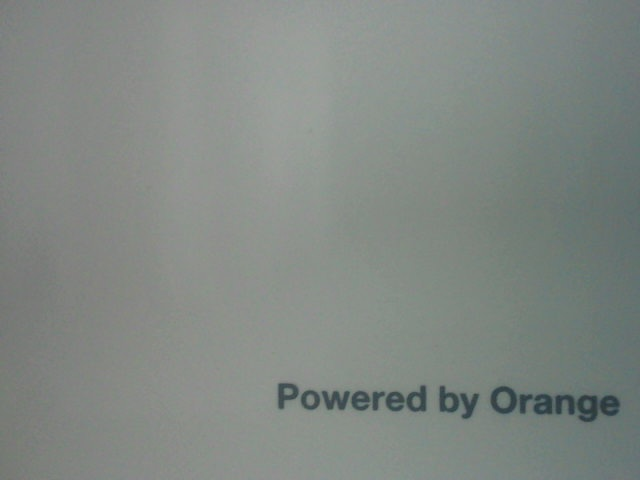AS_PowerByOrange: (265, 366, 630, 428)
